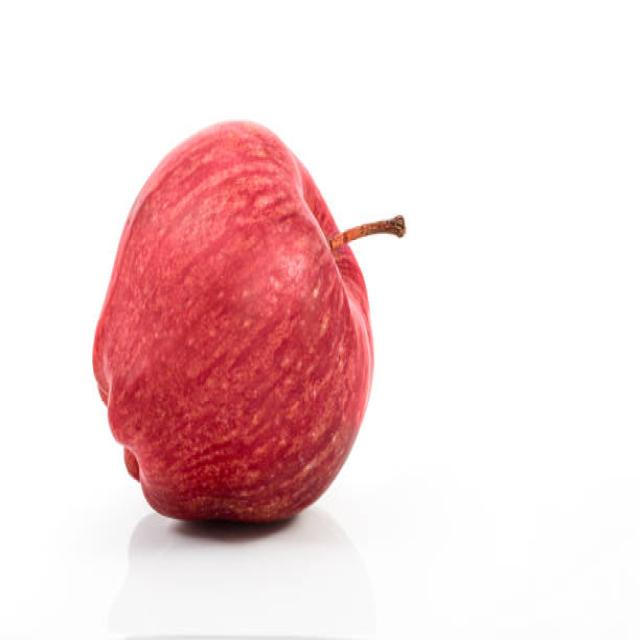Ripe: (93, 113, 382, 532)
